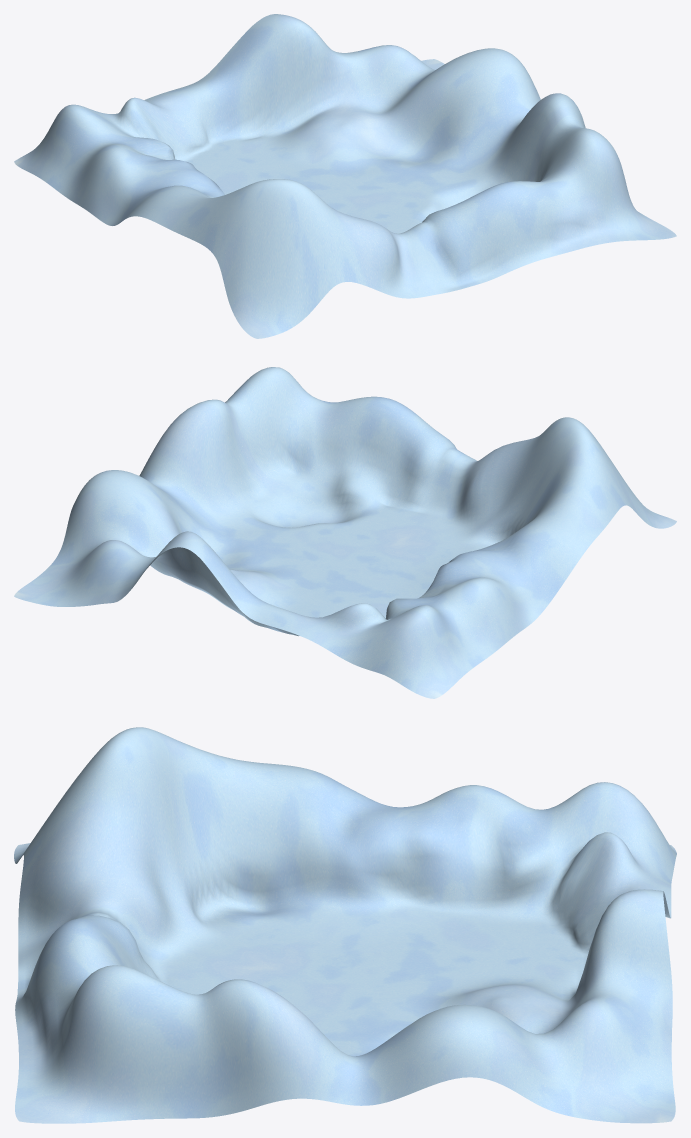
Rendered from snowyvillagenavmesh.glb.
The picture shows the model from 3 angles, top to bottom: view 1: azimuth 30°, elevation 25°; view 2: azimuth 150°, elevation 25°; view 3: azimuth 270°, elevation 25°; orthographic projection. The views are drawn at different scales.
Parts seen in each view (by area): view 1: terreno_snow_0.002; view 2: terreno_snow_0.002; view 3: terreno_snow_0.002.
Part boxes in pixels (x1=…): terreno_snow_0.002: x1=14, y1=14, x2=676, y2=338; terreno_snow_0.002: x1=14, y1=367, x2=676, y2=698; terreno_snow_0.002: x1=14, y1=727, x2=676, y2=1123.
Size of the model in its own units: 250 by 68.91 by 239.
Materials: 1 (1 with a texture image).
